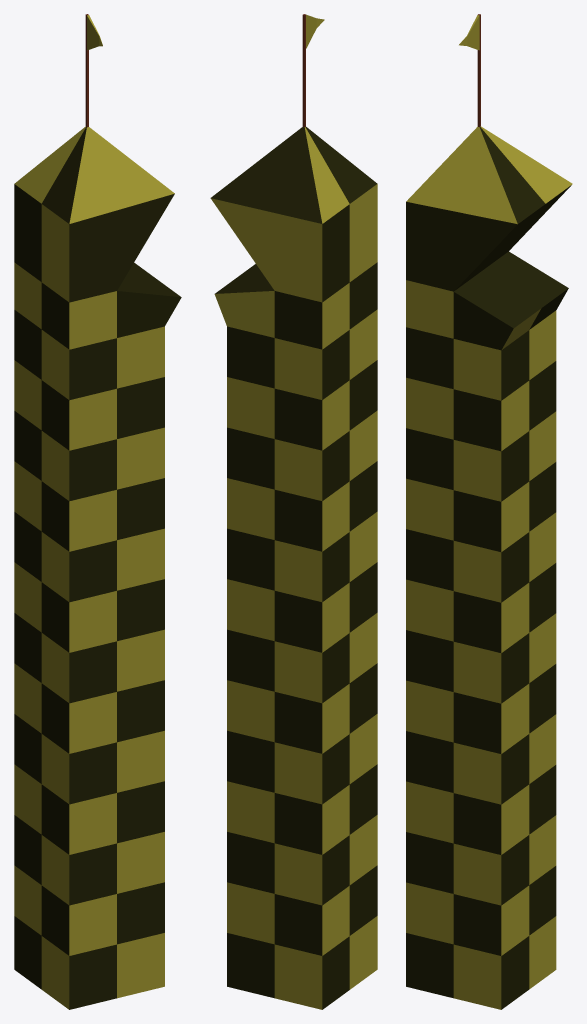
File: stadiumtower4.fbx
3 views of the same model, side by side, from view 1: azimuth 30°, elevation 25°; view 2: azimuth 150°, elevation 25°; view 3: azimuth 330°, elevation 25° (orthographic).
Visible parts, largest first — view 1: Cube.001; view 2: Cube.001; view 3: Cube.001.
Boxes of the visible parts, <box> form: Cube.001: <box>14,14,181,1009</box>; Cube.001: <box>210,14,377,1009</box>; Cube.001: <box>406,14,572,1009</box>.
Bounding box in the file's own units: 275 × 2298 × 261.
